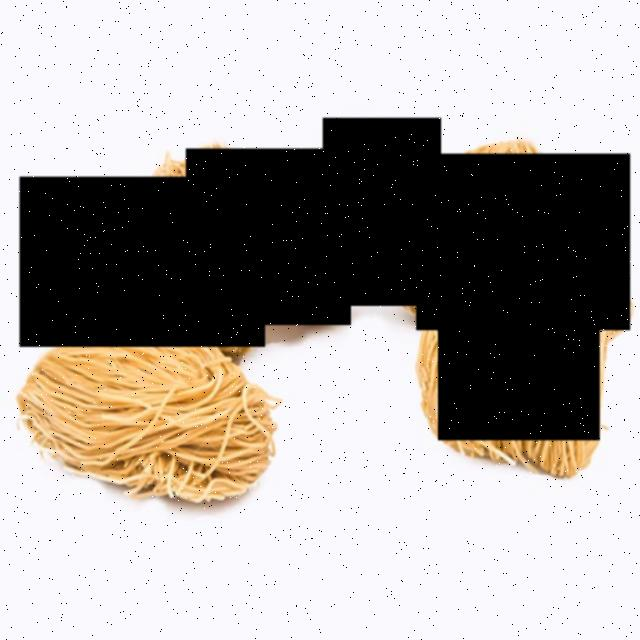Chowmein_Noodles: (20, 177, 265, 347), (417, 154, 630, 330), (438, 237, 600, 441), (186, 150, 352, 326), (323, 118, 441, 306)
